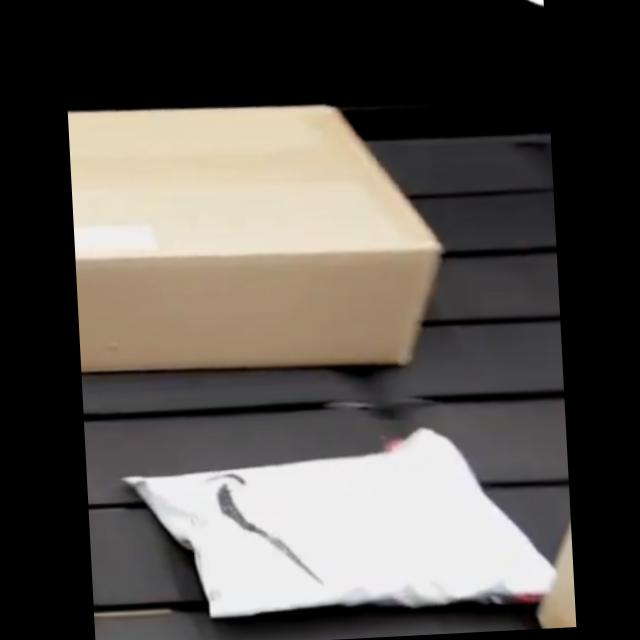box: (69, 94, 448, 380)
mailer: (128, 418, 556, 624)
